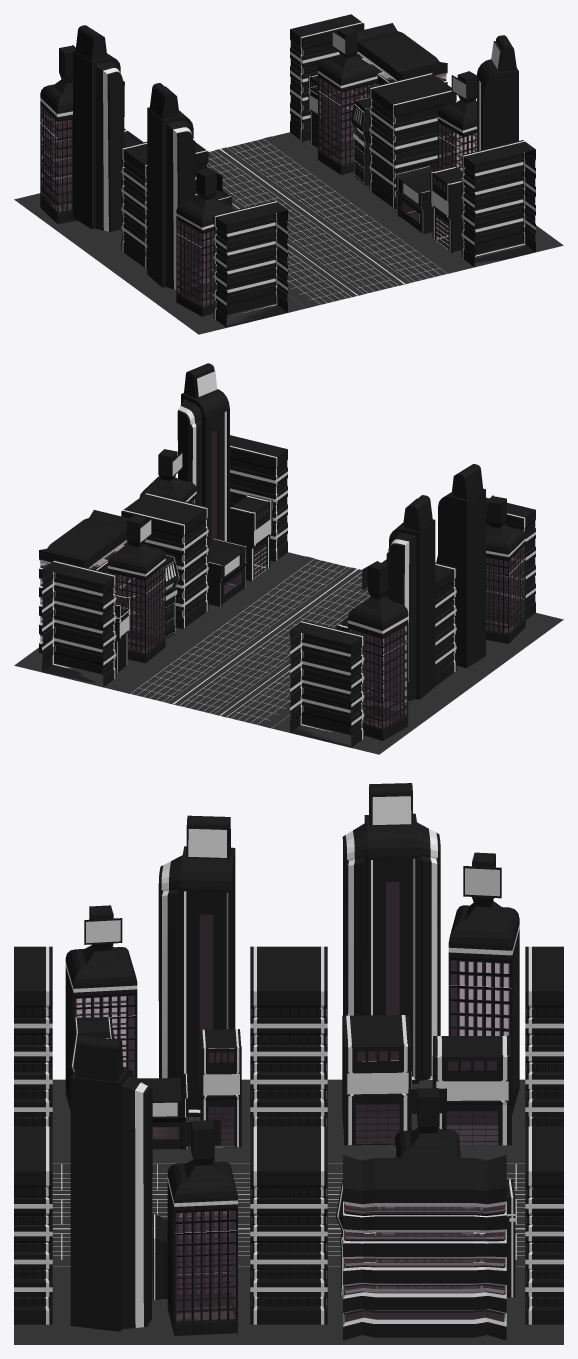
The model's file is Level_Complete.fbx.
3 renders of one model, top to bottom at view 1: azimuth 30°, elevation 25°; view 2: azimuth 150°, elevation 25°; view 3: azimuth 270°, elevation 25°, orthographic. The views are drawn at different scales.
Visible parts, largest first — view 1: Skyscraper.006; view 2: Skyscraper.006; view 3: Skyscraper.006.
Part boxes in pixels (x1=…): Skyscraper.006: x1=14, y1=14, x2=563, y2=334; Skyscraper.006: x1=14, y1=363, x2=563, y2=754; Skyscraper.006: x1=14, y1=783, x2=563, y2=1344.
Size of the model in its own units: 14675 by 8025 by 12856.
